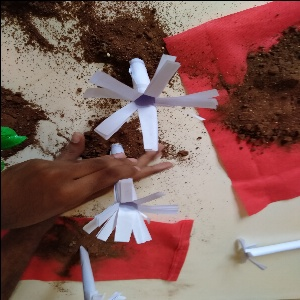weed: (89, 50, 206, 148), (92, 143, 185, 244), (71, 244, 130, 300), (230, 231, 300, 272)
